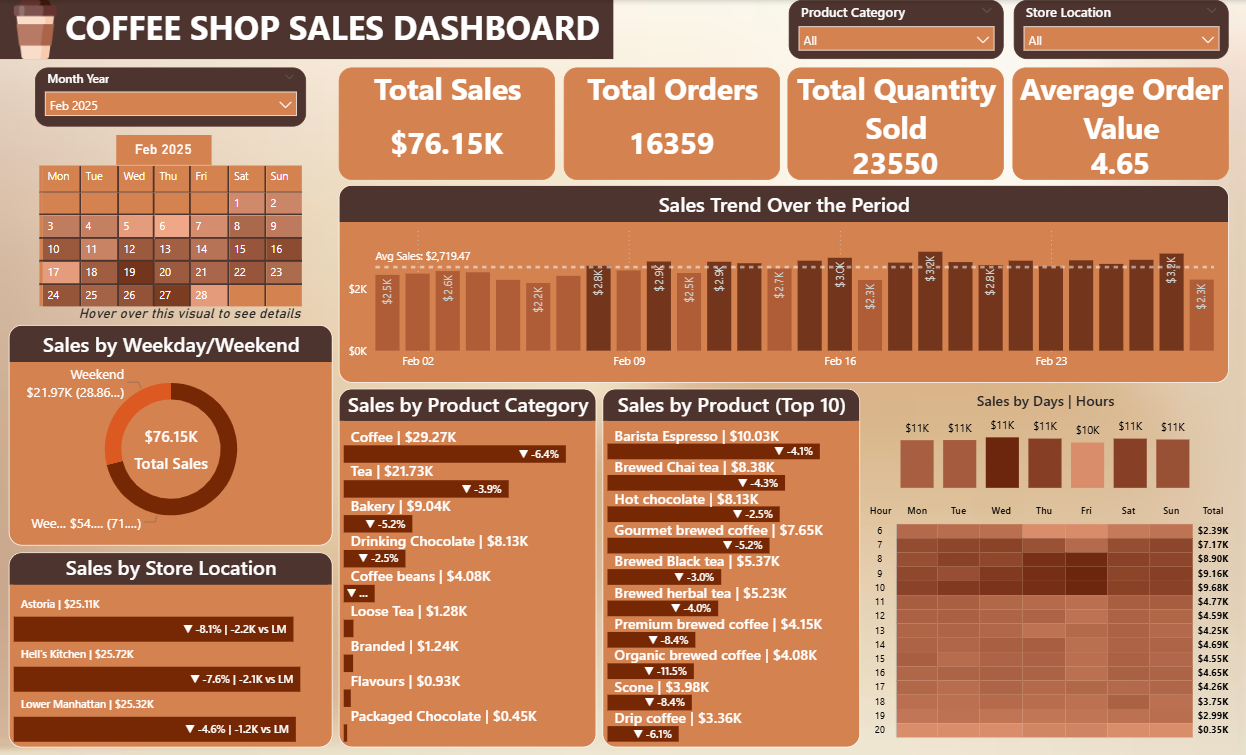

The dashboard page shown, as its layout file describes it:
{"tool":"powerbi","page":{"name":"Page 1","canvas":[1400,850],"ordinal":0},"visuals":[{"type":"textbox","box":[0,0,689.9,66.7],"z":0},{"type":"image","box":[0,0,79.7,66.7],"z":1000},{"type":"slicer","fields":{"Values":["Date Table.Month Year"]},"box":[39.4,75.9,305,66.1],"z":2000},{"type":"card","title":"Total Sales","fields":{"Values":["Coffee Shop Sales.Total Sales"]},"box":[380.9,75.9,243,126.5],"z":3000},{"type":"card","title":"Total Orders","fields":{"Values":["Coffee Shop Sales.Total Orders"]},"box":[633.4,75.9,243,126.5],"z":4000},{"type":"card","title":"Total Quantity Sold","fields":{"Values":["Coffee Shop Sales.Total Quantity Sold"]},"box":[885.9,75.9,243,126.5],"z":5000},{"type":"card","fields":{"Values":["Min(Date Table.Month Year)"]},"box":[130.7,151.8,106.8,33.7],"z":6000},{"type":"pivotTable","fields":{"Rows":["Date Table.Week Number"],"Columns":["Date Table.Day Name"],"Values":["Min(Date Table.Day Number)"]},"box":[39.8,181.3,314,185.2],"z":6000,"group":"g1"},{"type":"donutChart","title":"Sales by Weekday/Weekend","fields":{"Category":["Date Table.Weekday/Weekend"],"Y":["Coffee Shop Sales.Total Sales"]},"box":[9.8,365.4,364.3,248.4],"z":7000,"group":"g2"},{"type":"clusteredBarChart","title":"Sales by Store Location","fields":{"Category":["Coffee Shop Sales.store_location"],"Y":["Coffee Shop Sales.Placeholder","Coffee Shop Sales.Total Sales"]},"box":[9.8,621.2,364,219.2],"z":7000},{"type":"group","id":"g1","title":"Group 1","box":[39.8,181.3,316,186.9],"z":8000},{"type":"card","fields":{"Values":["Coffee Shop Sales.Foot Note"]},"box":[72.1,338.7,283.7,29.5],"z":8000,"group":"g1"},{"type":"card","fields":{"Values":["Coffee Shop Sales.Total Sales"]},"box":[136.4,472.5,112.5,62.1],"z":8000,"group":"g2"},{"type":"group","id":"g2","title":"Group 2","box":[9.8,365.4,364,248.8],"z":9000},{"type":"columnChart","title":"Sales Trend Over the Period","fields":{"Category":["Coffee Shop Sales.transaction_date"],"Y":["Coffee Shop Sales.Total Sales"]},"box":[380.9,208,1000.7,222.1],"z":10000},{"type":"clusteredBarChart","title":"Sales by Product Category","fields":{"Y":["Coffee Shop Sales.Placeholder","Coffee Shop Sales.Total Sales"],"Category":["Coffee Shop Sales.product_category"]},"box":[380.9,437.1,289.5,403.4],"z":11000},{"type":"slicer","fields":{"Values":["Coffee Shop Sales.product_category"]},"box":[886.8,0,241.7,66.1],"z":12000},{"type":"card","title":"Average Order Value","fields":{"Values":["Coffee Shop Sales.Average Order Value"]},"box":[1138.4,75.9,243.1,126.5],"z":13000},{"type":"slicer","fields":{"Values":["Coffee Shop Sales.store_location"]},"box":[1139.8,0,241.7,66.1],"z":14000},{"type":"clusteredBarChart","title":"Sales by Product (Top 10)","fields":{"Y":["Coffee Shop Sales.Placeholder","Coffee Shop Sales.Total Sales"],"Category":["Coffee Shop Sales.product_type"]},"box":[677.4,437.1,289.5,403.4],"z":15000},{"type":"pivotTable","fields":{"Rows":["Coffee Shop Sales.Hour"],"Columns":["Date Table.Day Name"],"Values":["Coffee Shop Sales.Total Sales"]},"box":[966.9,562.2,427.3,288.1],"z":16000},{"type":"columnChart","title":"Sales by Days | Hours","fields":{"Category":["Date Table.Day Name"],"Y":["Coffee Shop Sales.Total Sales"]},"box":[1007.7,438.5,335.9,116],"z":17000}]}

Visuals, with their boxes in screenshot pixels (x1, y1, x2, y2), scaled from the page's 1400x850 canvas onto the 1246x755 screenshot:
textbox: <bbox>0, 0, 614, 59</bbox>
image: <bbox>0, 0, 71, 59</bbox>
slicer - Date Table.Month Year: <bbox>35, 67, 307, 126</bbox>
"Total Sales" card: <bbox>339, 67, 555, 180</bbox>
"Total Orders" card: <bbox>564, 67, 780, 180</bbox>
"Total Quantity Sold" card: <bbox>788, 67, 1005, 180</bbox>
card - Min(Date Table.Month Year): <bbox>116, 135, 211, 165</bbox>
pivotTable - Date Table.Week Number x Date Table.Day Name: <bbox>35, 161, 315, 326</bbox>
"Sales by Weekday/Weekend" donutChart: <bbox>9, 325, 333, 545</bbox>
"Sales by Store Location" clusteredBarChart: <bbox>9, 552, 333, 746</bbox>
"Group 1" group: <bbox>35, 161, 317, 327</bbox>
card - Coffee Shop Sales.Foot Note: <bbox>64, 301, 317, 327</bbox>
card - Coffee Shop Sales.Total Sales: <bbox>121, 420, 222, 475</bbox>
"Group 2" group: <bbox>9, 325, 333, 546</bbox>
"Sales Trend Over the Period" columnChart: <bbox>339, 185, 1230, 382</bbox>
"Sales by Product Category" clusteredBarChart: <bbox>339, 388, 597, 747</bbox>
slicer - Coffee Shop Sales.product_category: <bbox>789, 0, 1004, 59</bbox>
"Average Order Value" card: <bbox>1013, 67, 1230, 180</bbox>
slicer - Coffee Shop Sales.store_location: <bbox>1014, 0, 1230, 59</bbox>
"Sales by Product (Top 10)" clusteredBarChart: <bbox>603, 388, 861, 747</bbox>
pivotTable - Coffee Shop Sales.Hour x Date Table.Day Name: <bbox>861, 499, 1241, 754</bbox>
"Sales by Days | Hours" columnChart: <bbox>897, 389, 1196, 493</bbox>
